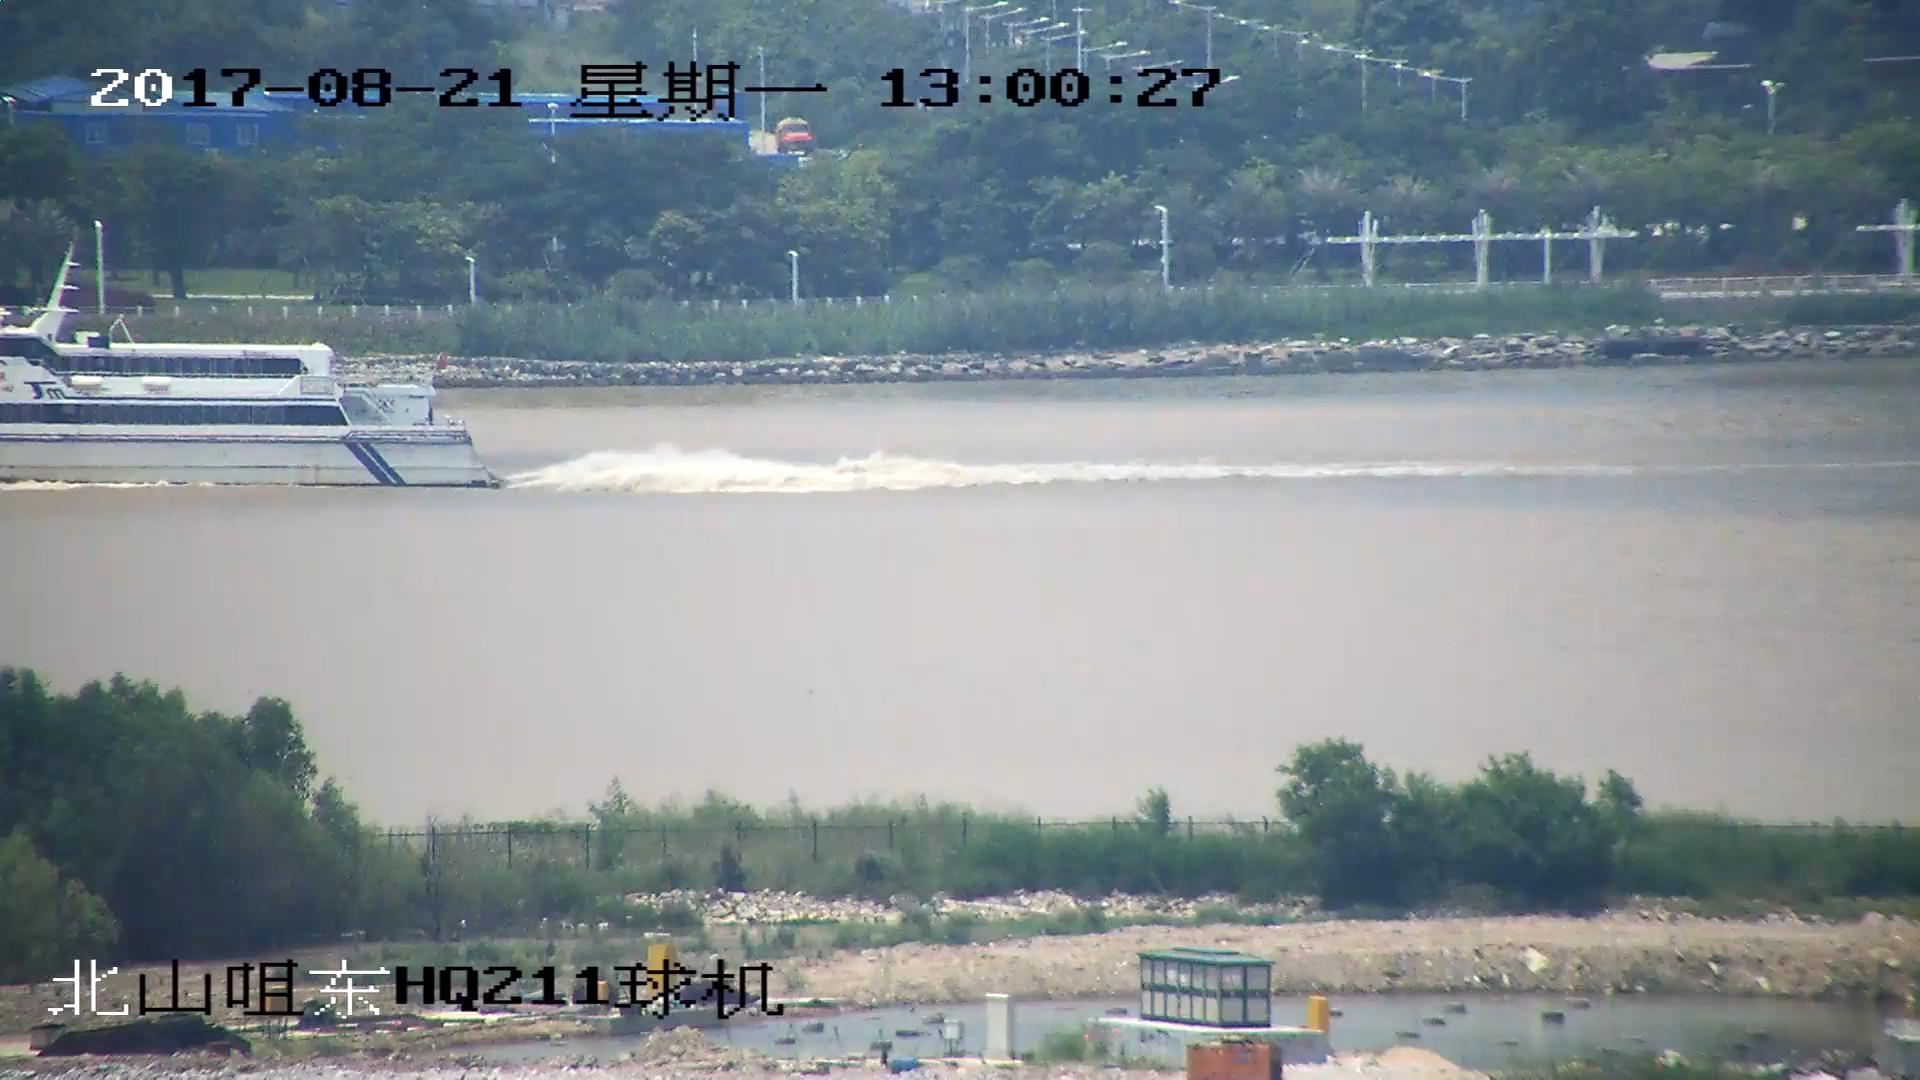passenger ship: (1, 239, 508, 493)
